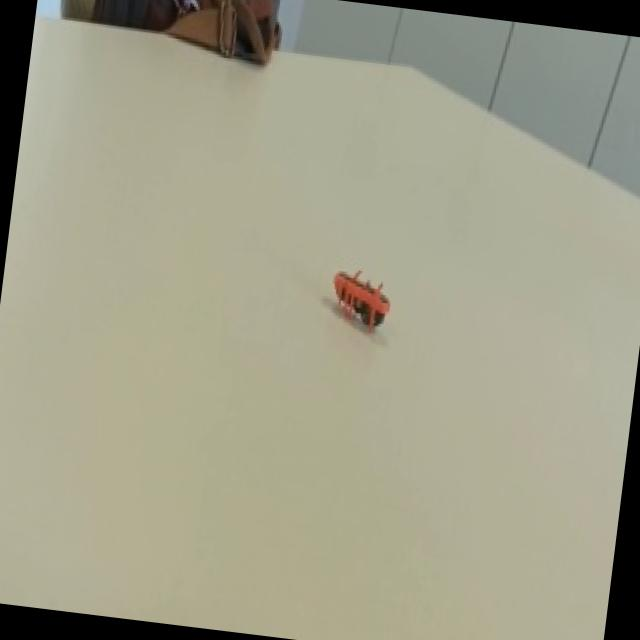7_NanoBug_Naranja: (305, 242, 407, 350)
